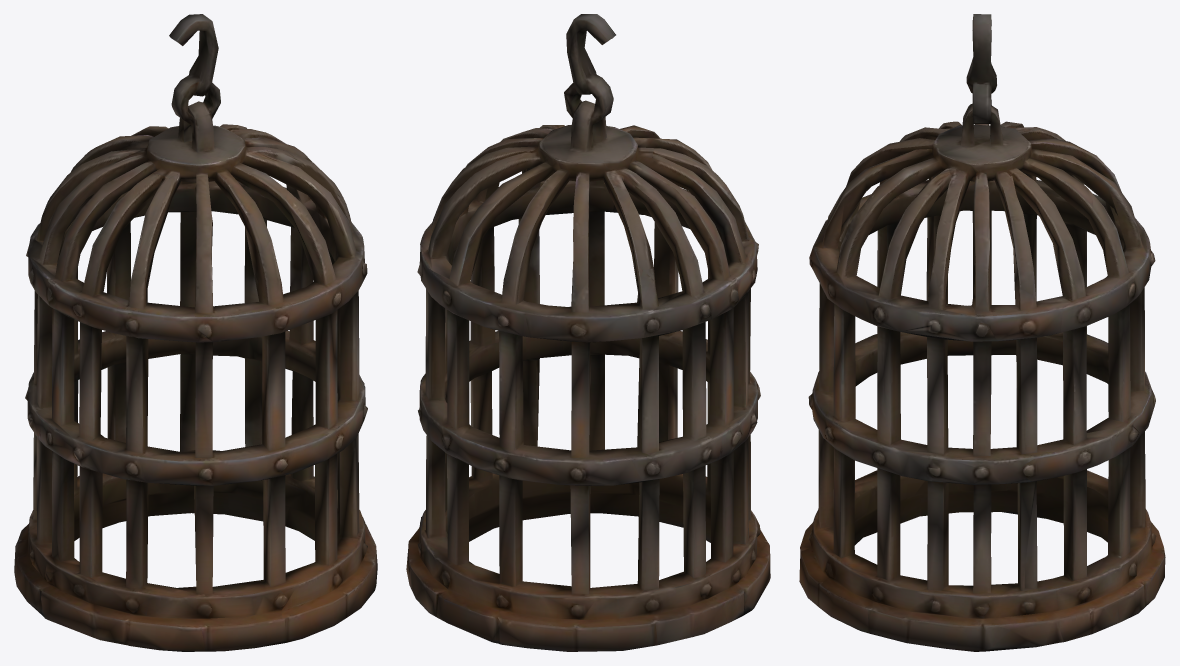
The model's file is cage2.opt.glb.
3 renders of one model, left to right at view 1: azimuth 30°, elevation 25°; view 2: azimuth 150°, elevation 25°; view 3: azimuth 270°, elevation 25°, orthographic.
Parts seen in each view (by area): view 1: node_0; view 2: node_0; view 3: node_0.
Boxes of the visible parts, <box> form: node_0: <box>14,14,377,651</box>; node_0: <box>406,14,770,651</box>; node_0: <box>799,14,1165,651</box>.
Bounding box in the file's own units: 0.6125 × 1.04 × 0.6135.
1 material, 1 textured.
